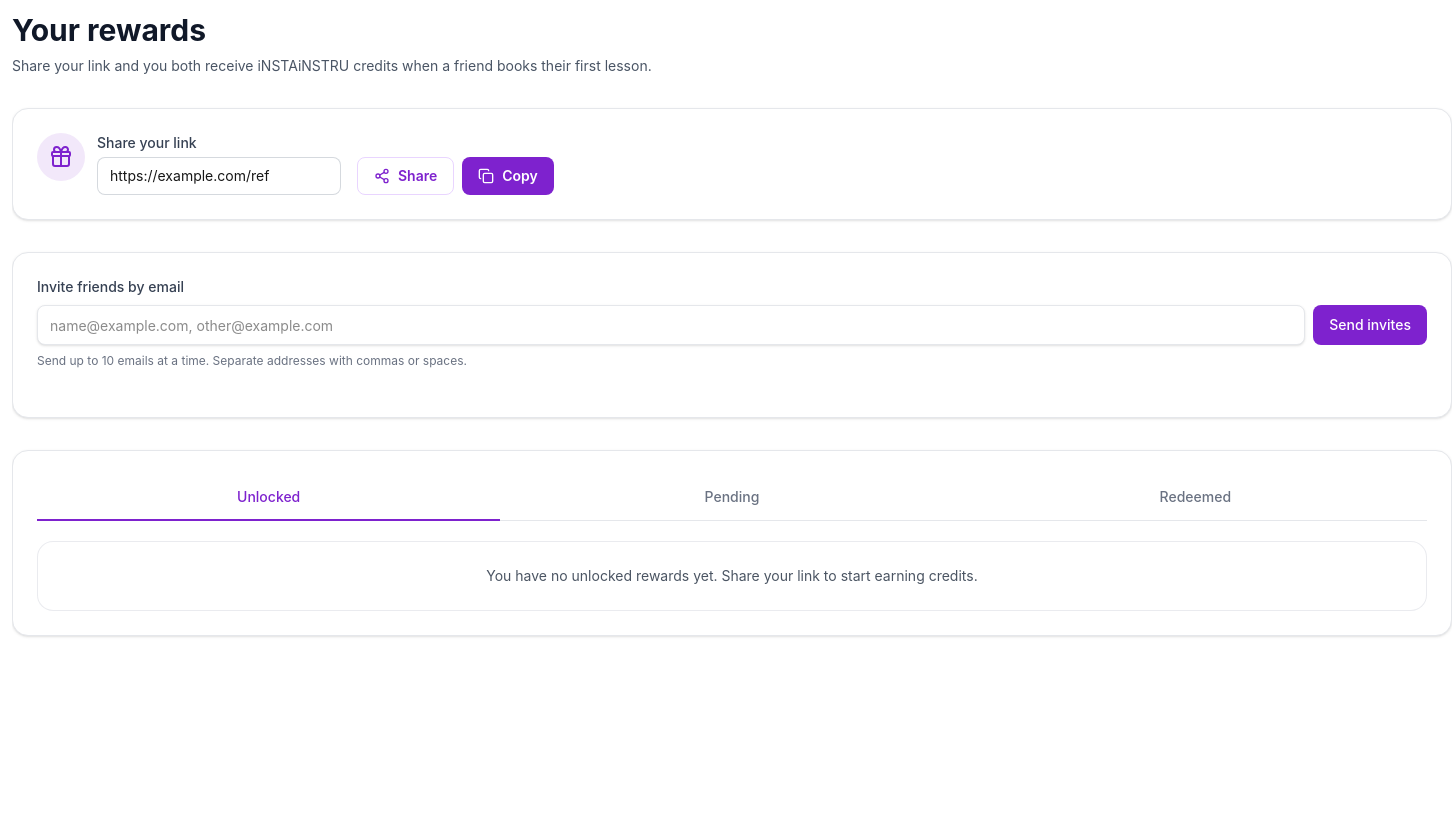
Test case: RewardsPanel › renders pending rewards in pending tab
The width and height of the screenshot is (1452, 822).
Step 1. Click the tab "Pending" → point(732, 498), box x1=500 y1=475 x2=964 y2=521
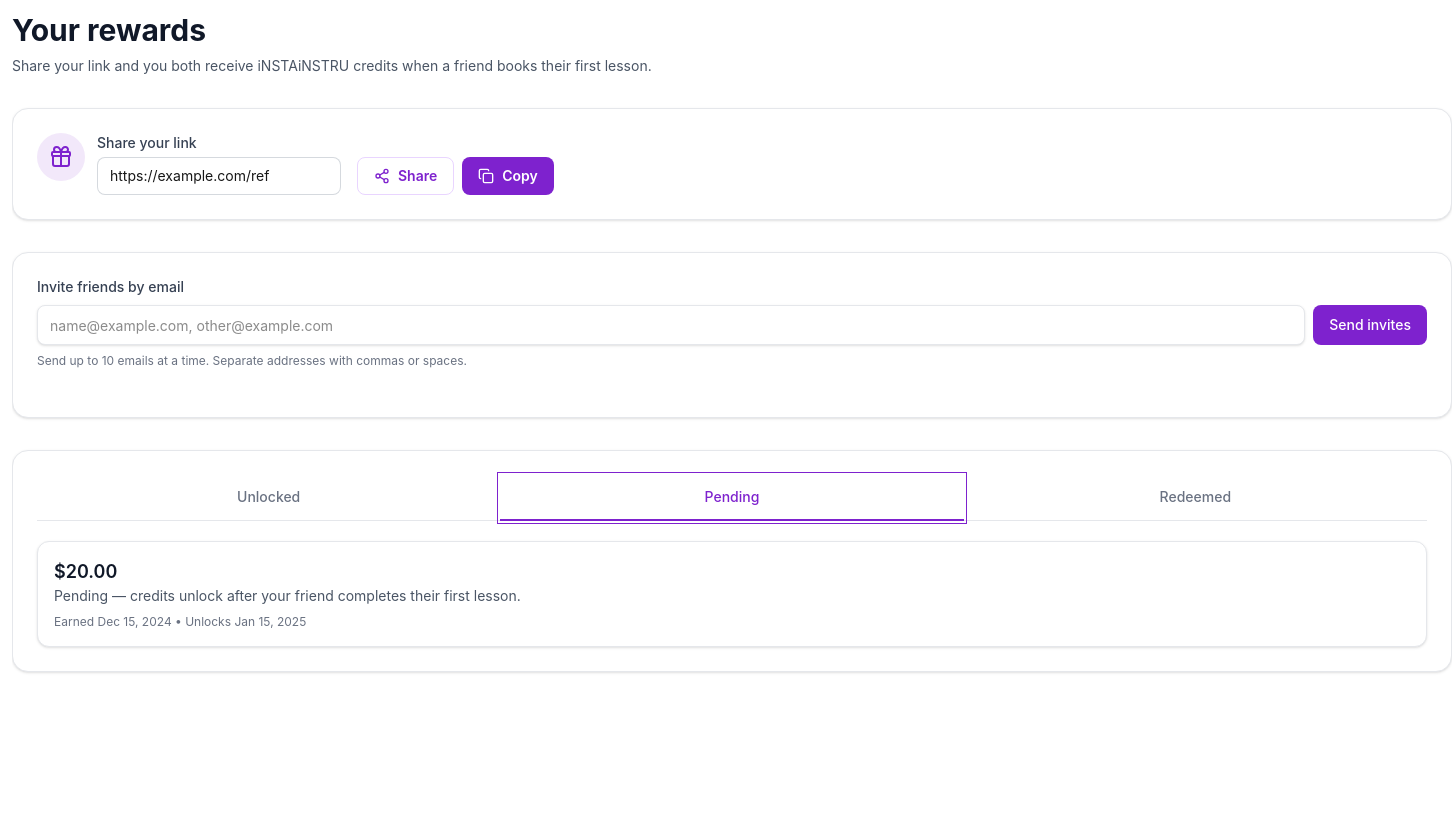
expect the text "$20.00" is shown: met, box x1=54 y1=561 x2=117 y2=582
